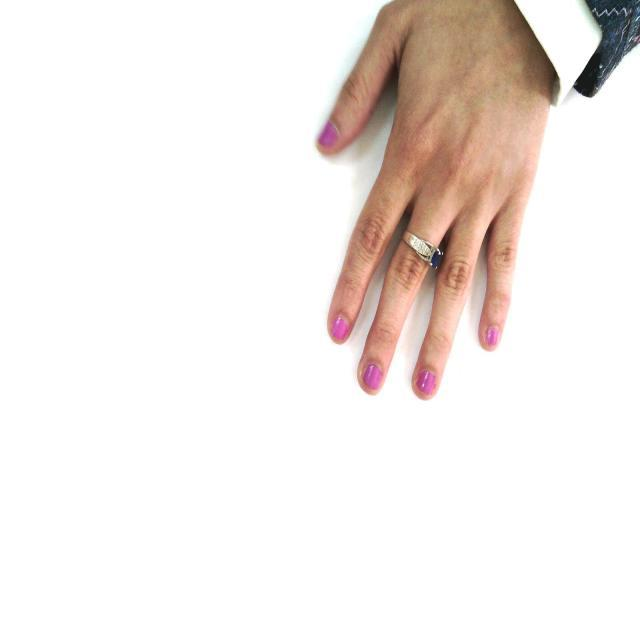Fingernail: (364, 364, 382, 389), (417, 370, 435, 395), (319, 122, 337, 147), (332, 316, 349, 342), (486, 326, 499, 346)
